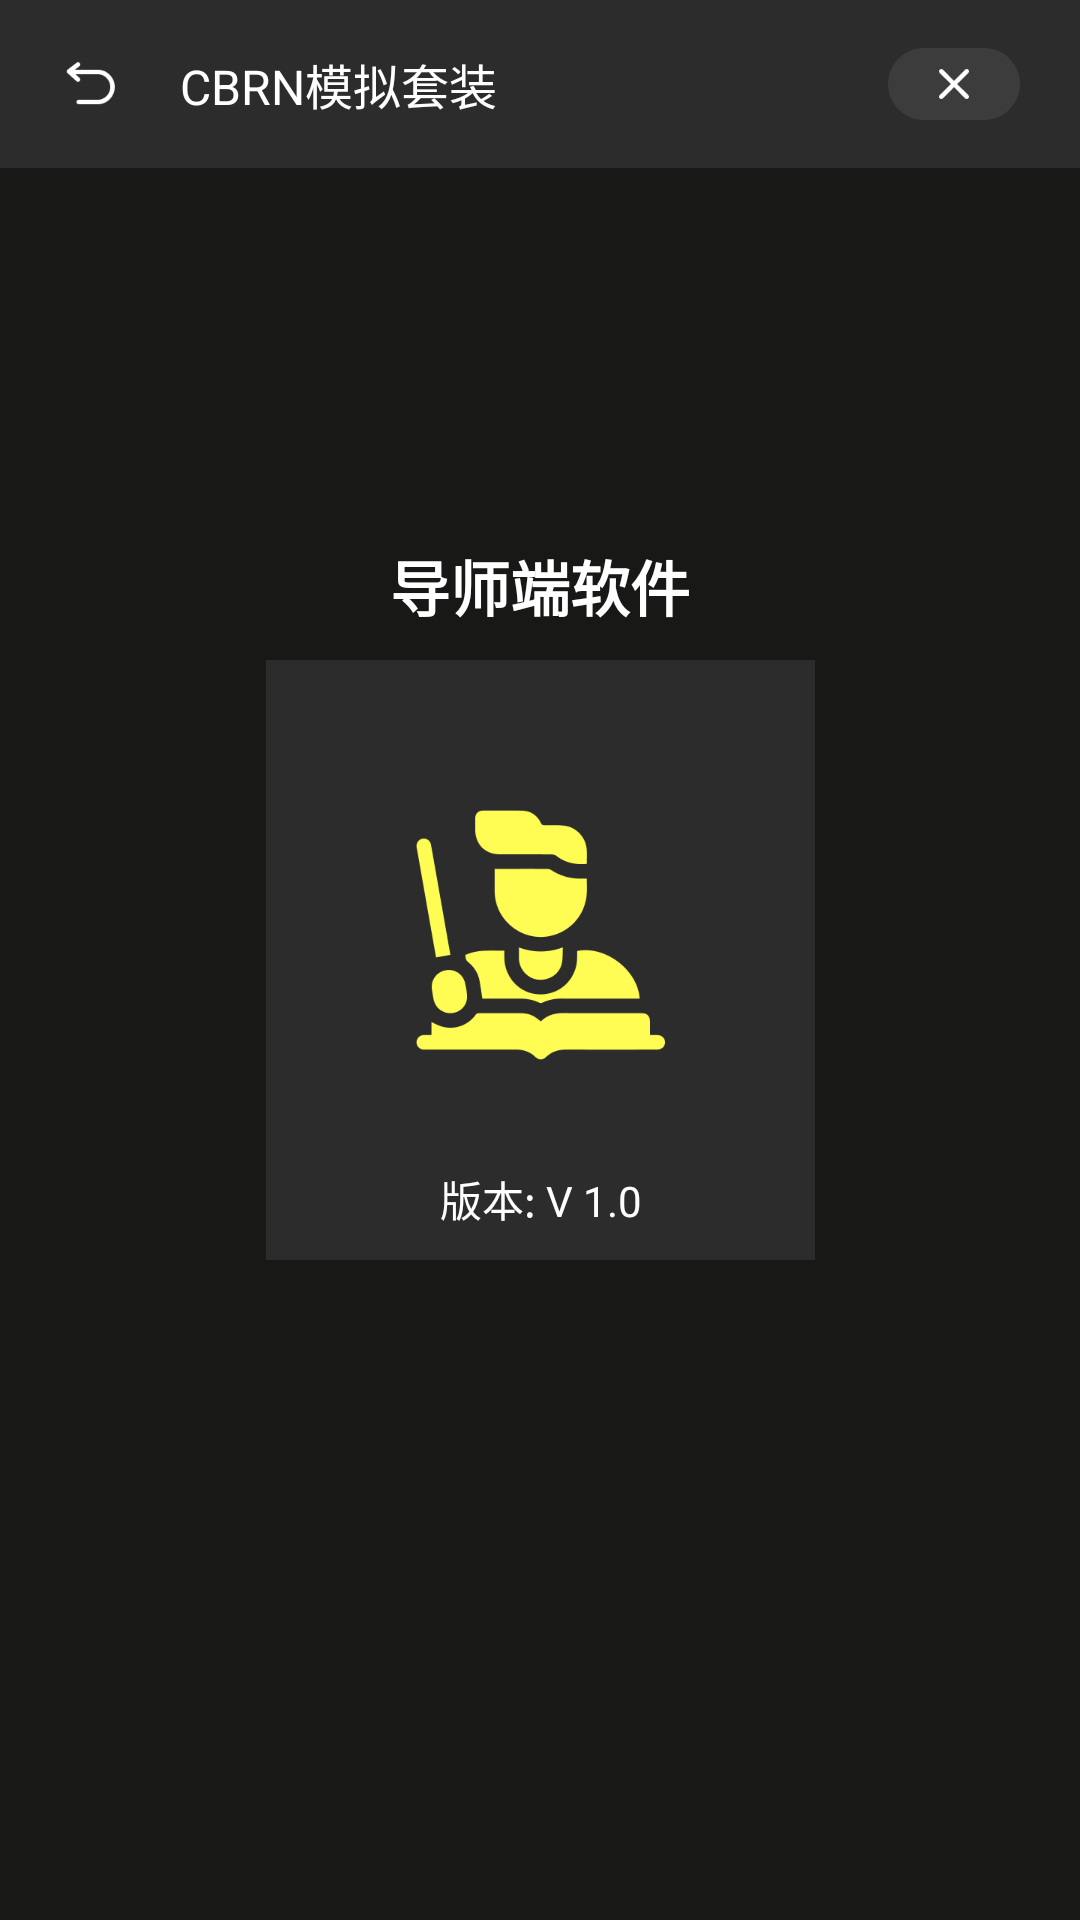

Named icons in this screenshot (1080 × 1920) and their bounding boxes, (x1, y1, x2, y2):
back: (66, 62, 115, 105)
cancel: (888, 48, 1020, 120)
teacher: (416, 810, 665, 1060)
